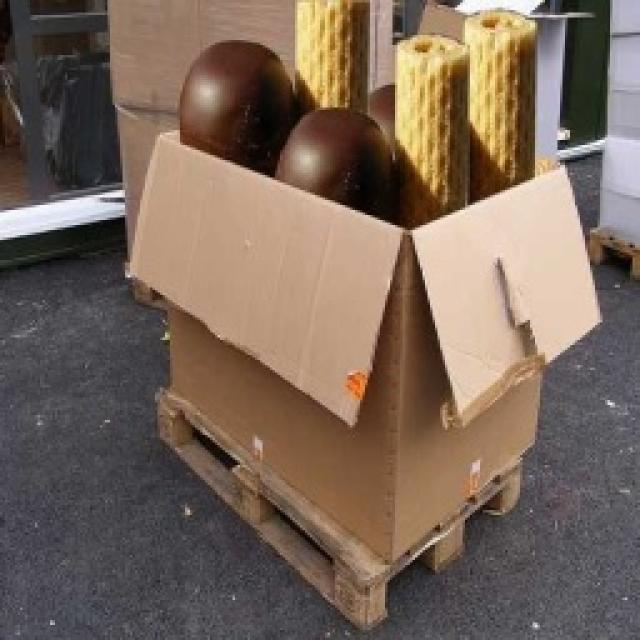box: (136, 116, 562, 530), (114, 0, 385, 92)
